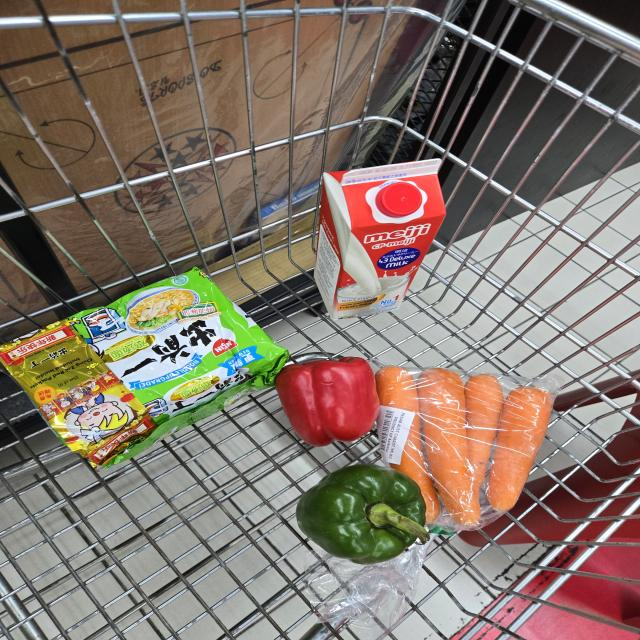bell-pepper: (296, 462, 431, 570), (276, 356, 382, 450)
carrot: (420, 364, 492, 530), (369, 360, 441, 522), (482, 384, 555, 522), (463, 373, 504, 479)
instant-noodle: (0, 262, 298, 480)
milk: (310, 156, 452, 326)
